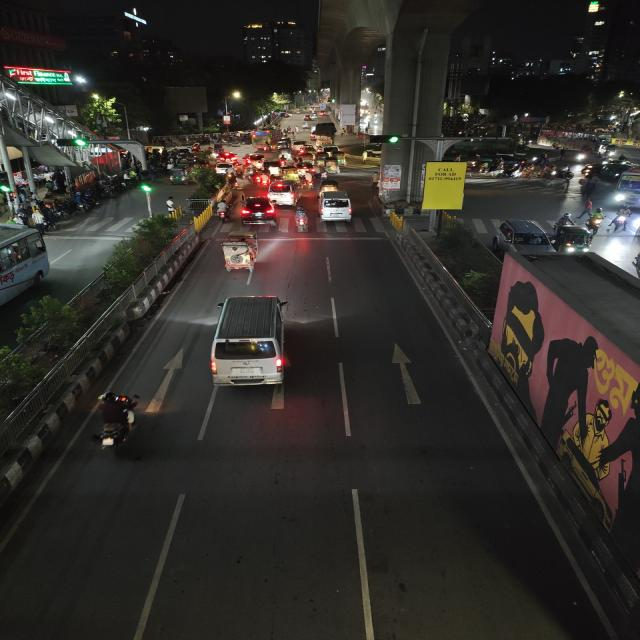bus: (0, 219, 56, 310), (618, 164, 640, 208), (248, 130, 272, 150)
car: (209, 295, 288, 396), (493, 219, 551, 262), (315, 190, 357, 224), (237, 194, 276, 228), (268, 180, 302, 205), (213, 160, 242, 176)
cng: (555, 226, 590, 254), (170, 165, 198, 185), (277, 166, 299, 180), (332, 149, 350, 166), (324, 157, 341, 175)
motorcycle: (86, 386, 148, 460), (43, 205, 71, 228), (292, 206, 308, 237), (214, 198, 234, 222), (587, 208, 605, 234), (613, 206, 631, 232), (74, 192, 92, 213), (303, 171, 315, 189)
pickup_van: (312, 134, 335, 148)
rickshaw: (213, 232, 268, 276), (522, 166, 556, 184)
